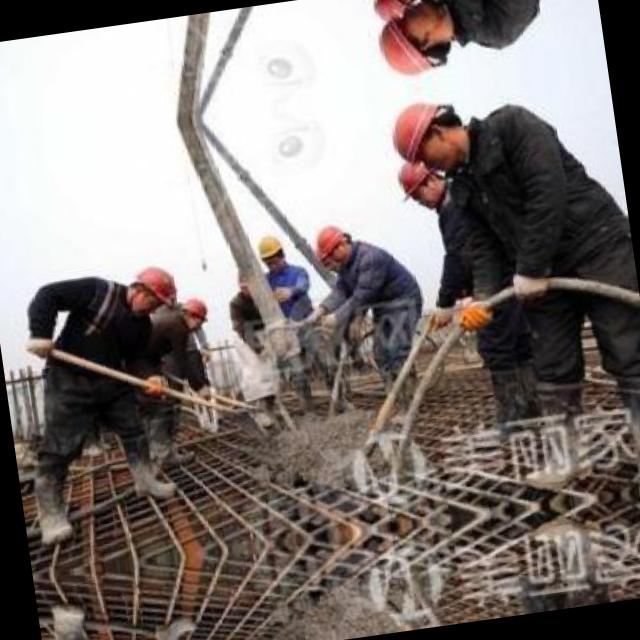helmet: (379, 94, 476, 180), (366, 0, 463, 83), (385, 152, 459, 215), (123, 260, 183, 321), (310, 218, 356, 272), (361, 0, 434, 27), (173, 294, 211, 332), (254, 228, 288, 270)
